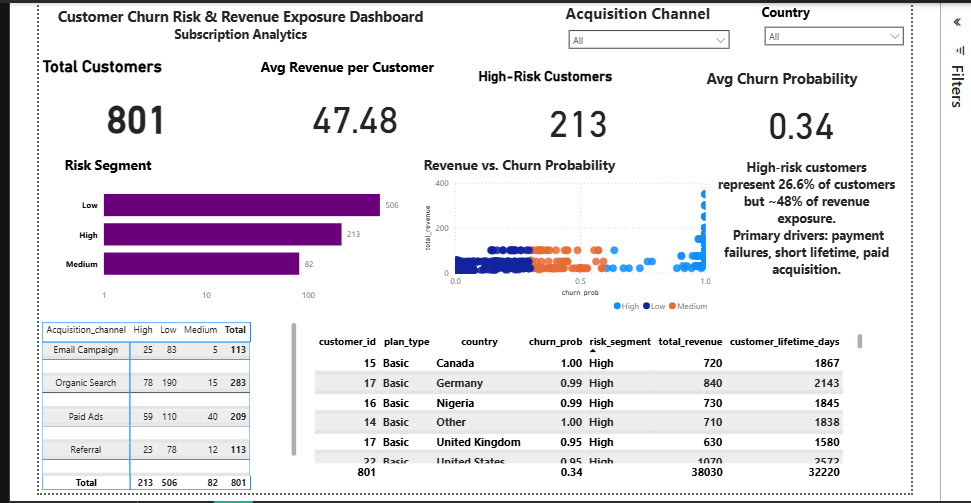

Layout of this report page (visuals, bound fields, positions):
{"tool":"powerbi","page":{"name":"Page 1","canvas":[1280,720],"ordinal":0},"visuals":[{"type":"barChart","title":"Risk Segment","fields":{"Category":["churn_segments.risk_segment"],"Y":["CountNonNull(churn_segments.customer_id)"]},"box":[32,224,512,224],"z":4000},{"type":"scatterChart","title":"Revenue vs. Churn Probability","fields":{"X":["churn_segments.churn_prob"],"Y":["churn_segments.total_revenue"],"Series":["churn_segments.risk_segment"],"Size":["CountNonNull(churn_segments.customer_lifetime_days)"]},"box":[560,224,432,240],"z":5000},{"type":"pivotTable","fields":{"Rows":["churn_segments.acquisition_channel"],"Columns":["churn_segments.risk_segment"],"Values":["CountNonNull(churn_segments.customer_id)"]},"box":[0,464,384,256],"z":6000},{"type":"tableEx","fields":{"Values":["churn_segments.customer_id","churn_segments.plan_type","churn_segments.country","Avg(churn_segments.churn_prob)","churn_segments.risk_segment","Sum(churn_segments.total_revenue)","Sum(churn_segments.customer_lifetime_days)"]},"box":[400,480,816,224],"z":7000},{"type":"slicer","title":"Country","fields":{"Values":["churn_segments.country"]},"box":[1056,0,224,80],"z":8000},{"type":"card","title":"Total Customers","fields":{"Values":["Dim_Channel.Total Customers"]},"box":[0,80,288,144],"z":9500},{"type":"card","title":"High-Risk Customers","fields":{"Values":["Dim_Channel.High Risk Customers"]},"box":[640,96,304,128],"z":10000},{"type":"card","title":"Avg Churn Probability","fields":{"Values":["Avg(churn_segments.churn_prob)"]},"box":[976,96,288,128],"z":10500},{"type":"card","title":"Avg Revenue per Customer","fields":{"Values":["Dim_Channel.Avg Revenue per Customer"]},"box":[320,80,288,144],"z":11000},{"type":"slicer","title":"Acquisition Channel","fields":{"Values":["churn_segments.acquisition_channel"]},"box":[768,0,256,80],"z":11500},{"type":"textbox","box":[992,224,272,240],"z":11501},{"type":"textbox","box":[0,0,592,80],"z":11502}]}

Visuals, with their boxes on the page's 1280x720 design canvas (x1, y1, x2, y2). These are canvas units, not pixel positions in the 971x503 screenshot, which may show the page scaled, cropped or inside an application window:
"Risk Segment" barChart: region(32, 224, 544, 448)
"Revenue vs. Churn Probability" scatterChart: region(560, 224, 992, 464)
pivotTable - churn_segments.acquisition_channel x churn_segments.risk_segment: region(0, 464, 384, 720)
tableEx - churn_segments.customer_id x churn_segments.plan_type: region(400, 480, 1216, 704)
"Country" slicer: region(1056, 0, 1280, 80)
"Total Customers" card: region(0, 80, 288, 224)
"High-Risk Customers" card: region(640, 96, 944, 224)
"Avg Churn Probability" card: region(976, 96, 1264, 224)
"Avg Revenue per Customer" card: region(320, 80, 608, 224)
"Acquisition Channel" slicer: region(768, 0, 1024, 80)
textbox: region(992, 224, 1264, 464)
textbox: region(0, 0, 592, 80)
